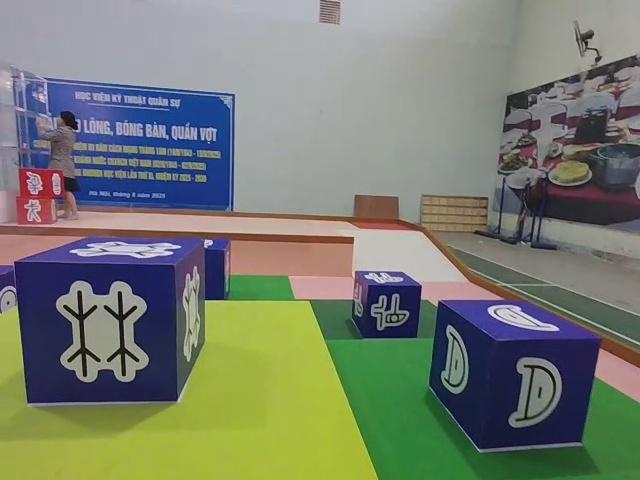R2 Real Blue: (15, 237, 205, 406), (430, 300, 598, 454), (352, 270, 422, 339)
